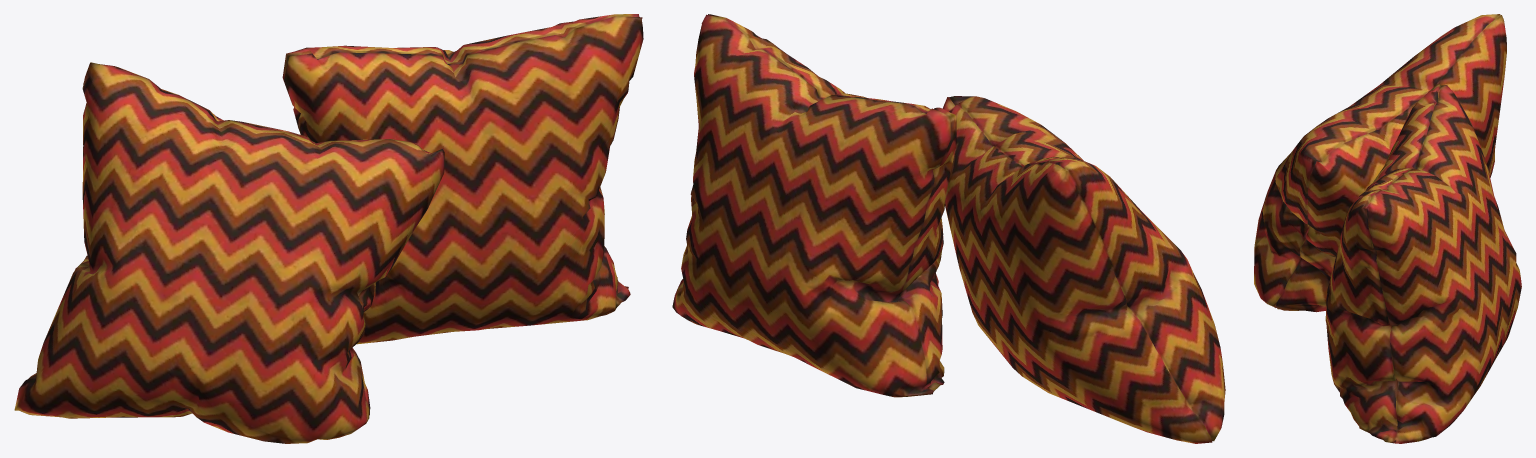
File: pillows.glb
The picture shows the model from 3 angles, left to right: view 1: azimuth 30°, elevation 25°; view 2: azimuth 150°, elevation 25°; view 3: azimuth 270°, elevation 25°; orthographic projection. The views are drawn at different scales.
Visible parts, largest first — view 1: throw_pillows_01_pillow02; view 2: throw_pillows_01_pillow02; view 3: throw_pillows_01_pillow02.
Boxes of the visible parts, <box> form: throw_pillows_01_pillow02: <box>14,14,643,443</box>; throw_pillows_01_pillow02: <box>672,14,1225,443</box>; throw_pillows_01_pillow02: <box>1254,14,1521,443</box>.
Size of the model in its own units: 0.9401 by 0.45 by 0.4504.
1 material, 1 textured.
